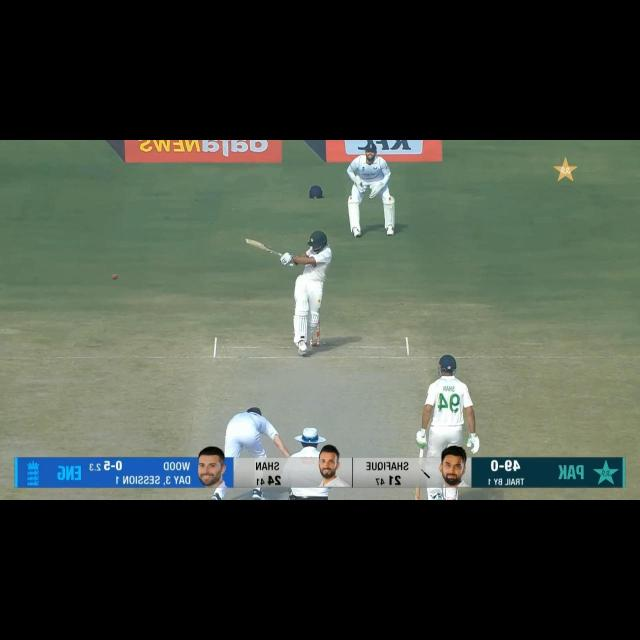bat: (241, 236, 284, 258), (414, 486, 422, 501)
toe: (242, 236, 259, 248), (413, 493, 420, 500)
